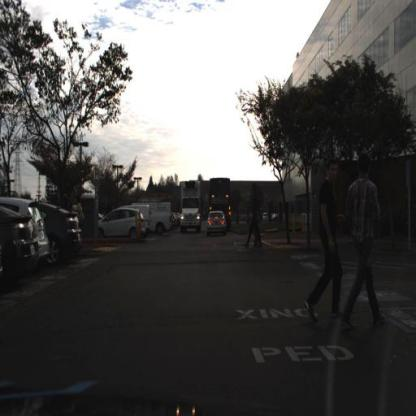car: (2, 205, 37, 285), (43, 203, 83, 270), (44, 204, 84, 264), (27, 195, 53, 268), (21, 204, 51, 261), (99, 206, 147, 238), (93, 207, 139, 239), (131, 199, 173, 232), (122, 204, 152, 234), (207, 211, 227, 236), (208, 212, 227, 236)
pedestrian: (340, 153, 386, 330), (305, 155, 345, 323), (247, 183, 261, 250), (248, 181, 260, 251), (71, 192, 85, 245), (75, 192, 84, 241), (249, 191, 256, 244)
truck: (179, 176, 204, 233), (179, 179, 204, 235), (210, 178, 232, 231), (209, 174, 233, 213), (145, 202, 173, 235), (143, 202, 153, 236)
